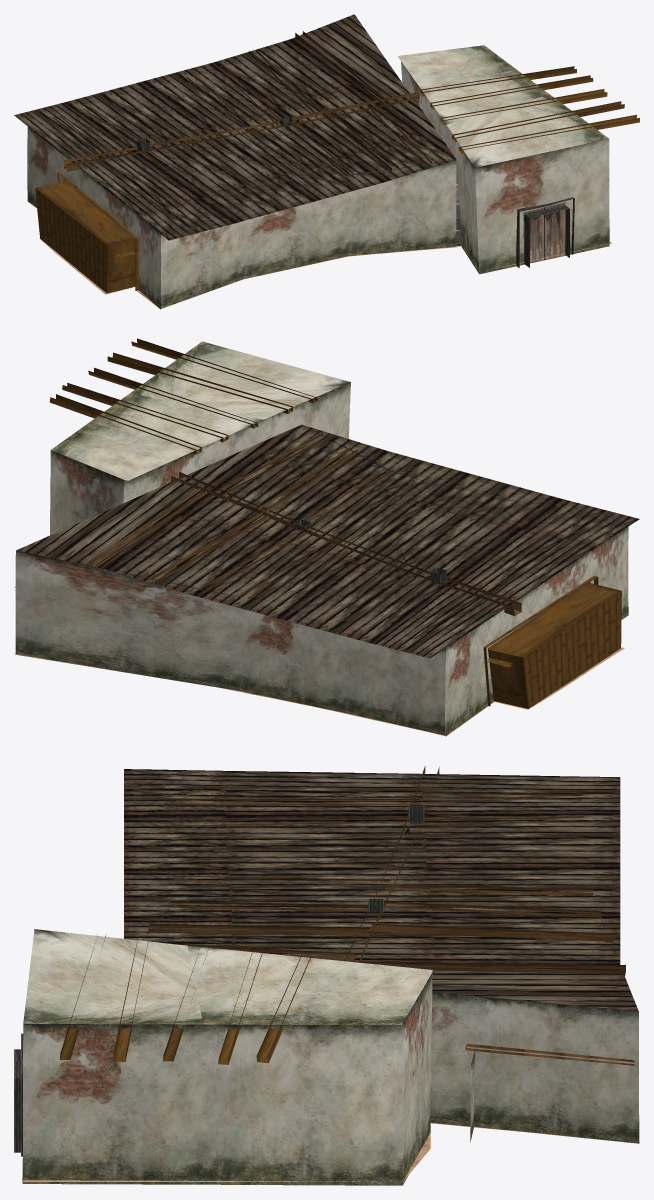
Rendered from pir_m_bld_int_tavernA_oneDoor.fbx.
3 renders of one model, top to bottom at view 1: azimuth 30°, elevation 25°; view 2: azimuth 150°, elevation 25°; view 3: azimuth 270°, elevation 25°, orthographic. The views are drawn at different scales.
Visible parts, largest first — view 1: ceiling, TavernWall, tavern_hall_wall, Ceiling2, alcoveB, wood_planks, bar_wallB, door_hole, door_frame, beam_21, beam_22, beam_25 (+3 smaller); view 2: ceiling, TavernWall, Ceiling2, alcoveB, tavern_hall_wall, bar_wallB, wood_planks, beam_22, beam_19, beam_20, beam_21, beam_25 (+1 smaller); view 3: ceiling, tavern_hall_wall, Ceiling2, TavernWall, wood_planks, alcove_roof, door_frame, beam_19, floor_entrance, beam_22, beam_20.
Part boxes in pixels (x1,y1,x2,y2): ceiling: (14,14,456,240); TavernWall: (27,44,456,308); tavern_hall_wall: (401,61,609,274); Ceiling2: (398,45,608,167); alcoveB: (35,172,138,293); wood_planks: (53,31,432,218); bar_wallB: (27,126,160,309); door_hole: (523,202,565,264); door_frame: (516,197,574,267); beam_21: (459,114,639,153); beam_22: (452,101,624,141); beam_25: (440,89,607,124); ceiling: (16,424,639,658); TavernWall: (15,424,627,735); Ceiling2: (51,341,350,480); alcoveB: (483,576,621,708); tavern_hall_wall: (50,382,350,535); bar_wallB: (445,526,628,736); wood_planks: (87,433,572,639); beam_22: (107,352,292,413); beam_19: (49,394,201,454); beam_20: (62,382,228,442); beam_21: (131,338,317,403); beam_25: (88,367,258,428); ceiling: (124,769,638,1011); tavern_hall_wall: (22,972,432,1185); Ceiling2: (23,929,432,1025); TavernWall: (142,890,639,1143); wood_planks: (148,766,625,975); alcove_roof: (465,1043,634,1065); door_frame: (14,1033,23,1156); beam_19: (256,955,311,1063); floor_entrance: (22,1133,430,1181); beam_22: (113,939,148,1061); beam_20: (218,950,262,1064).
Bounding box in the file's own units: 12021 × 2626 × 9075.
3 materials, 3 textured.
